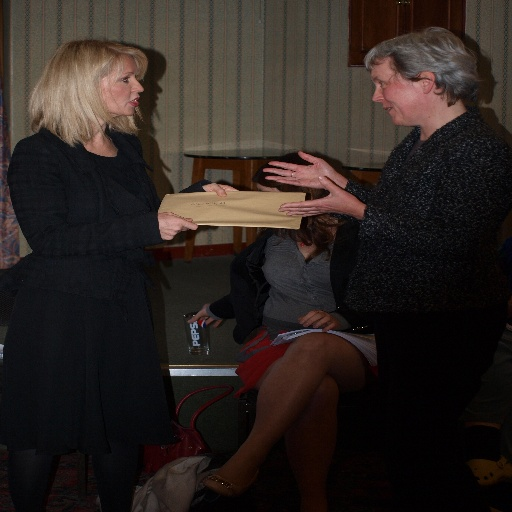hand: (278, 176, 354, 218), (263, 152, 334, 189), (157, 209, 201, 244), (294, 309, 343, 332), (186, 301, 224, 328), (200, 181, 240, 198)
